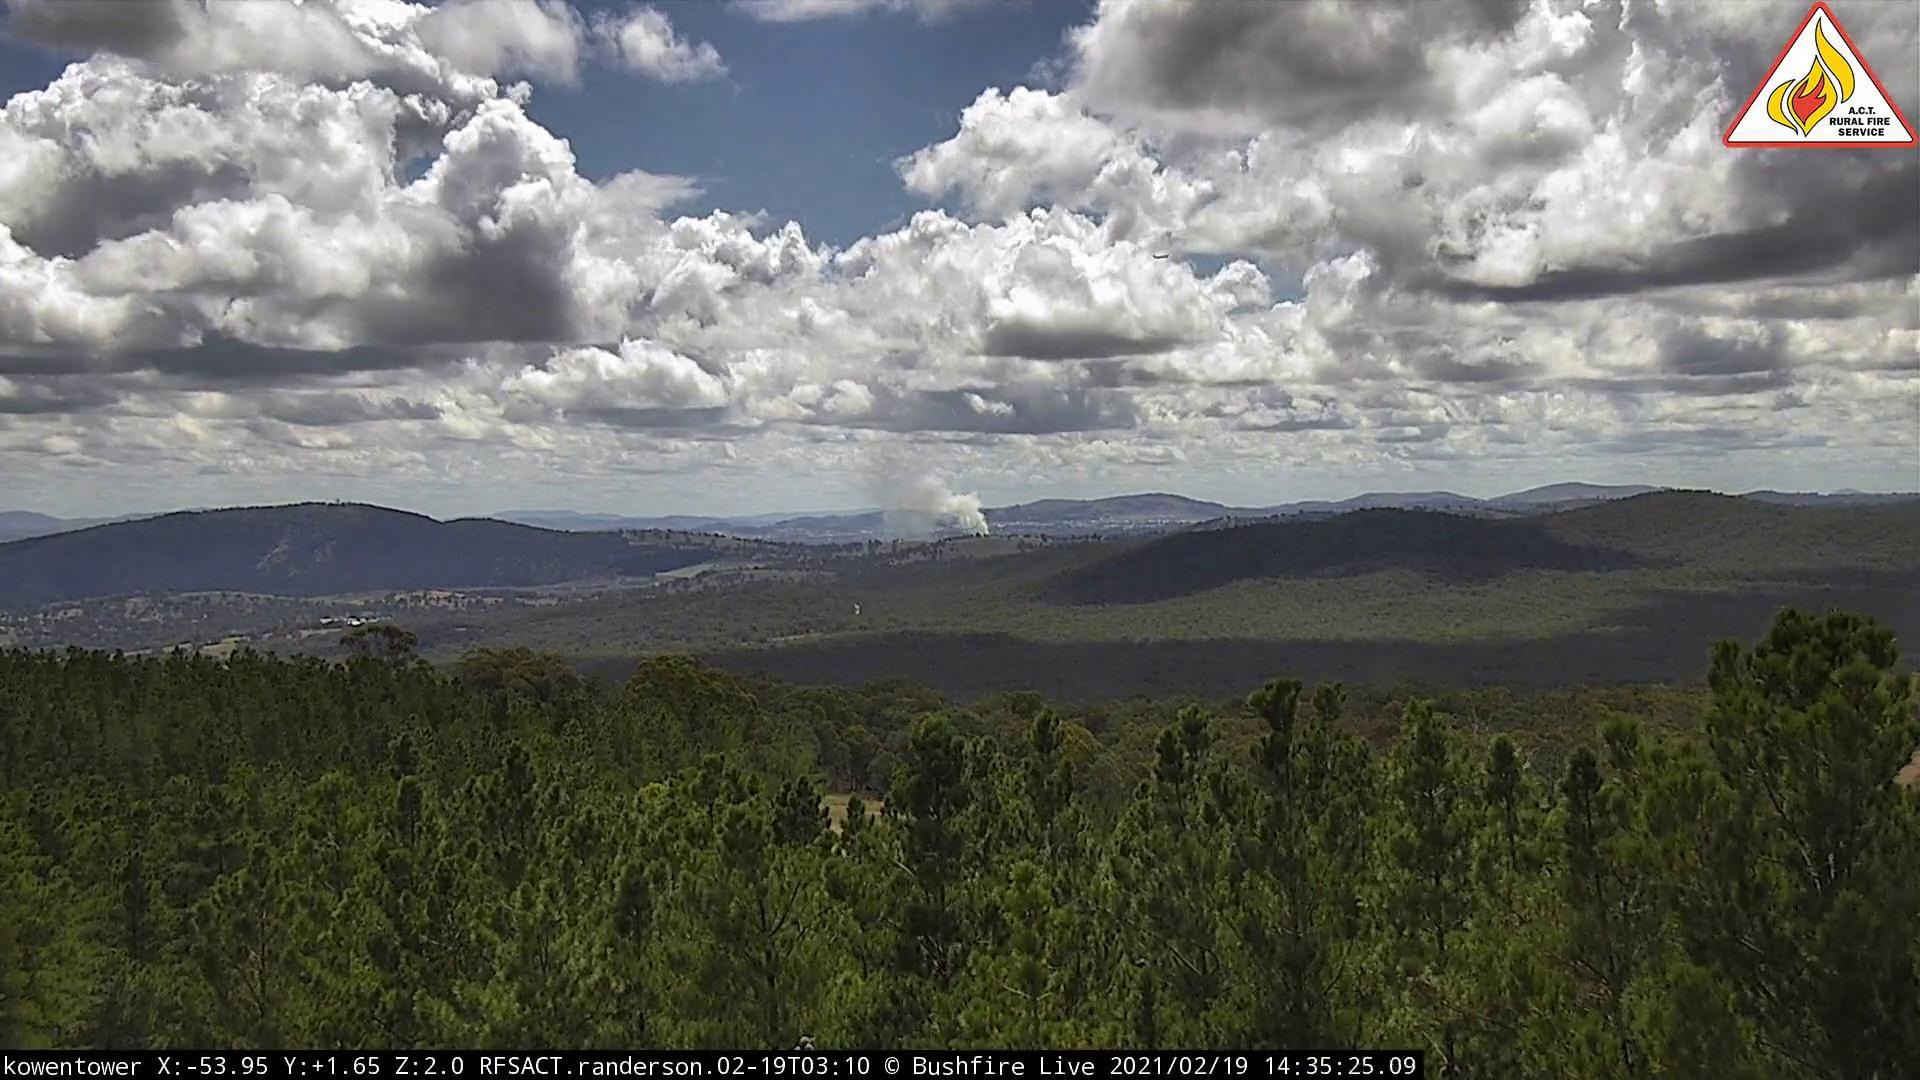Smoke: (866, 473, 996, 545)
